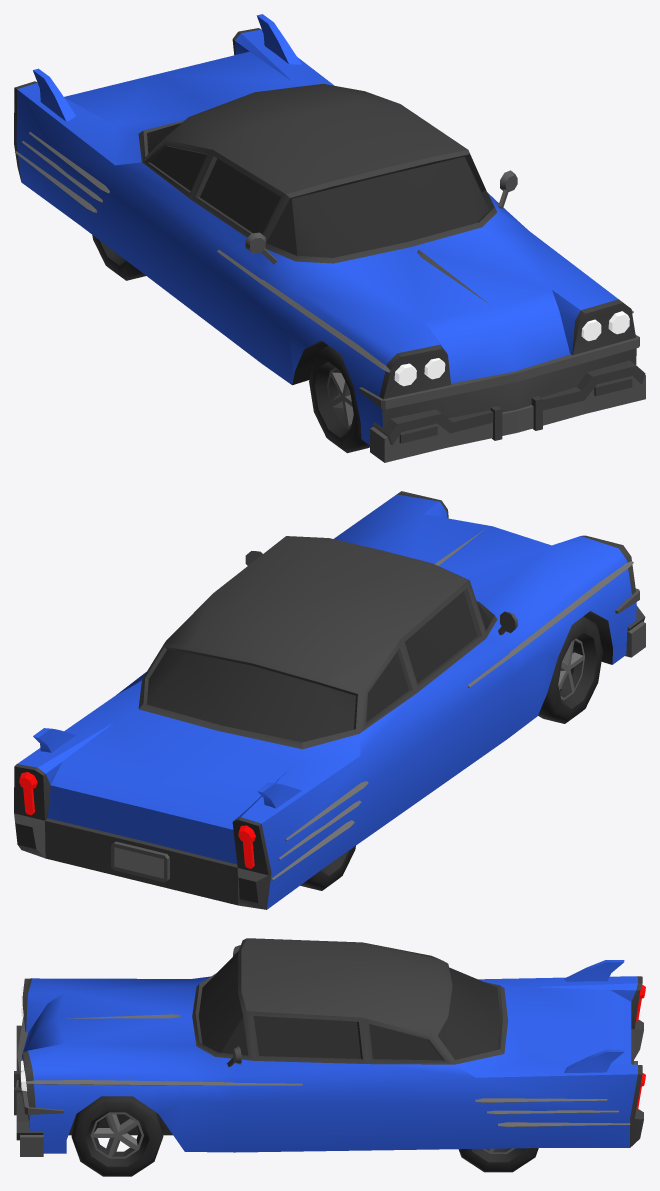
The model's file is mobil.glb.
The picture shows the model from 3 angles, top to bottom: view 1: azimuth 30°, elevation 25°; view 2: azimuth 150°, elevation 25°; view 3: azimuth 270°, elevation 25°; orthographic projection. The views are drawn at different scales.
Parts seen in each view (by area): view 1: car_base.002, wheel1.007, wheel2.003; view 2: car_base.002, wheel1.007, wheel2.003; view 3: car_base.002, wheel1.003, wheel2.001.
Boxes of the visible parts, x1,y1,x2,y2 form: car_base.002: [14, 14, 645, 462]; wheel1.007: [309, 345, 369, 453]; wheel2.003: [92, 235, 145, 280]; car_base.002: [14, 491, 645, 909]; wheel1.007: [538, 616, 602, 723]; wheel2.003: [300, 846, 355, 890]; car_base.002: [14, 938, 645, 1156]; wheel1.003: [71, 1096, 163, 1176]; wheel2.001: [458, 1148, 538, 1172].
Bounding box in the file's own units: 2.16 × 1.51 × 5.34.
Materials: 3 (3 with a texture image).
